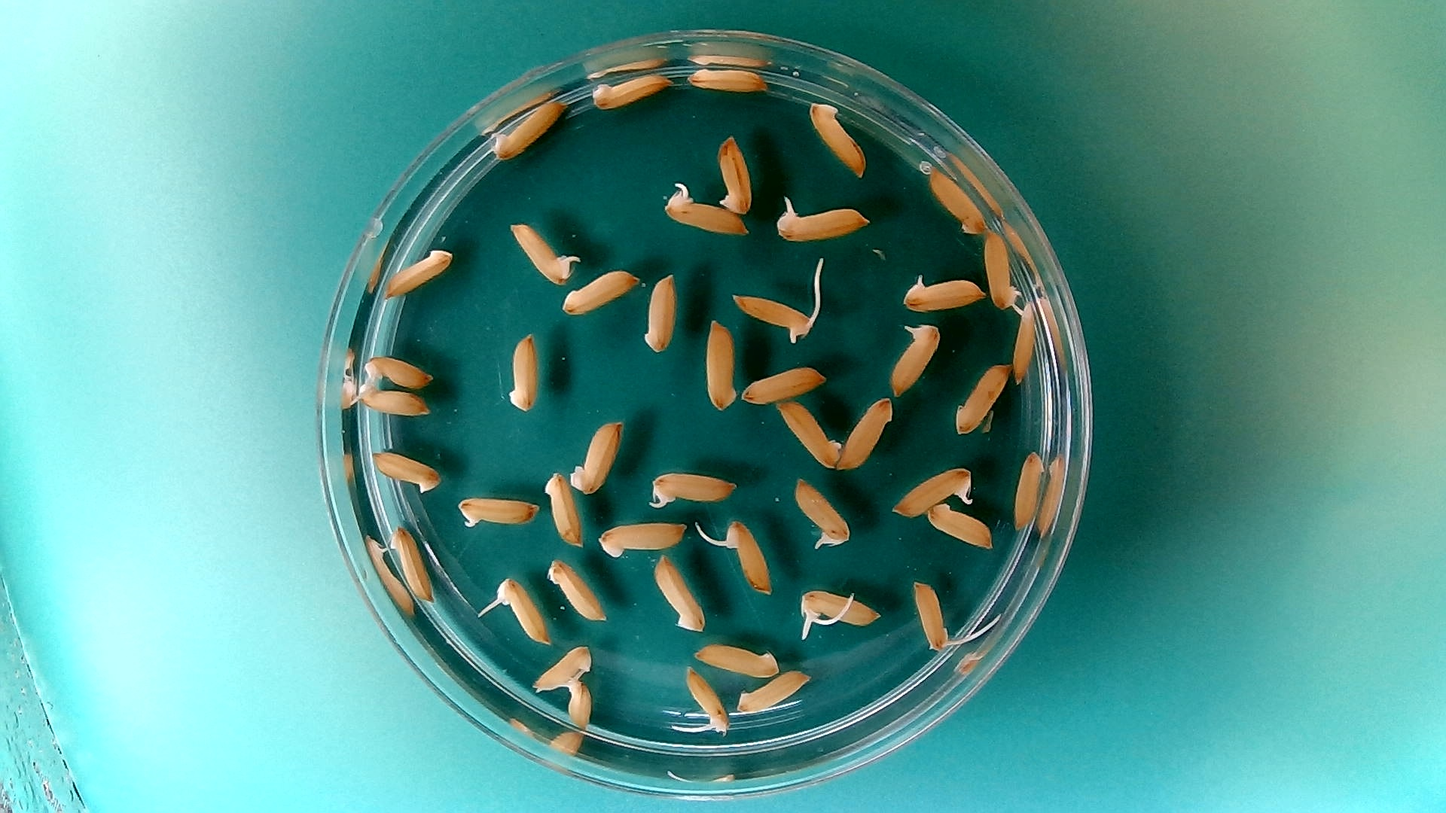no: (479, 99, 571, 163), (805, 96, 868, 178), (566, 415, 627, 497), (777, 397, 844, 470), (926, 160, 988, 236), (651, 551, 707, 635), (544, 554, 609, 624), (951, 361, 1010, 437), (836, 395, 893, 470), (387, 519, 435, 608), (560, 264, 642, 316), (382, 242, 456, 298), (593, 516, 689, 559), (740, 362, 829, 406), (690, 641, 782, 682), (368, 446, 443, 496), (735, 666, 813, 714), (587, 67, 672, 111), (701, 315, 739, 413), (924, 499, 994, 550), (541, 467, 584, 549), (982, 227, 1023, 312), (715, 131, 755, 216), (640, 269, 679, 356), (529, 641, 594, 693), (504, 327, 541, 415), (353, 378, 432, 418), (1011, 448, 1047, 532), (359, 351, 435, 390), (685, 62, 769, 94), (565, 674, 594, 738)
yes: (770, 192, 872, 244), (726, 292, 828, 344), (658, 181, 749, 236), (885, 462, 976, 517), (790, 473, 852, 553), (718, 514, 776, 599), (506, 217, 578, 285), (886, 319, 942, 398), (909, 576, 962, 658), (643, 465, 739, 508), (795, 585, 883, 631), (493, 579, 551, 646), (898, 269, 987, 312), (687, 661, 728, 744), (453, 492, 540, 530), (1011, 297, 1038, 382)
